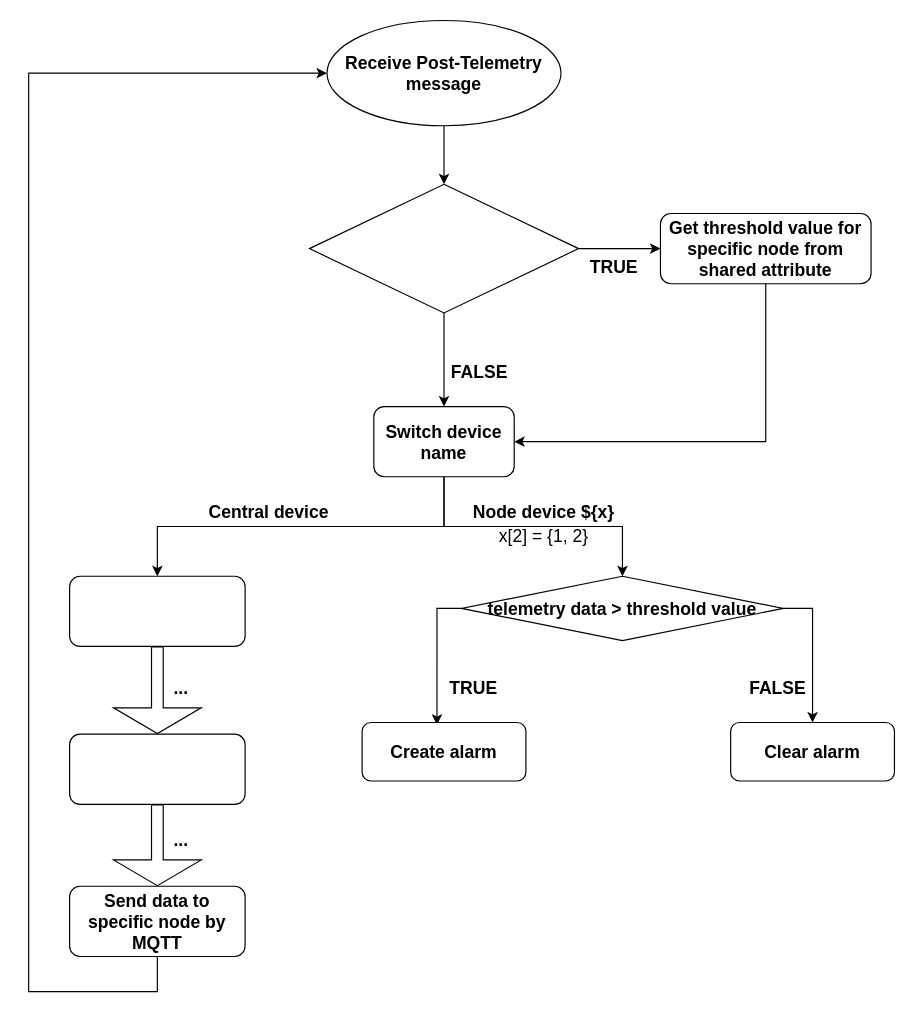
The diagram is 915 pixels wide and 1021 high, and some of its shapes have lost their labels. Each missing label, with the centre of its shape:
metadata.deviceName != "Central device": point (443, 248)
Package data for corresponding node: point (156, 768)
Switch message key string: point (156, 610)
